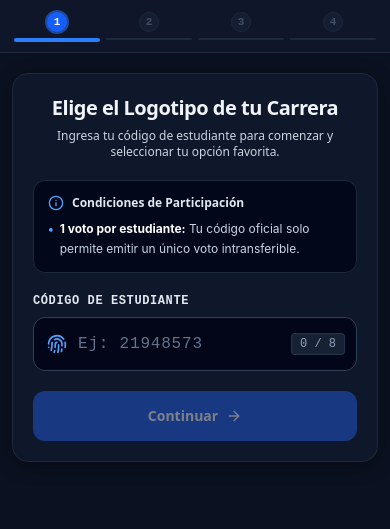
it: Identification Step — Validation & Barriers › detects non-numeric characters and displays immediate error feedback
The image size is (390, 529).
Check: the navigation bar with test id "stepper-nav" is shown, box [14,10,376,42]
Type "abc12" into the field with test id "student-code-input".
click(195, 344); type("abc12")  # box [33,317,357,371]
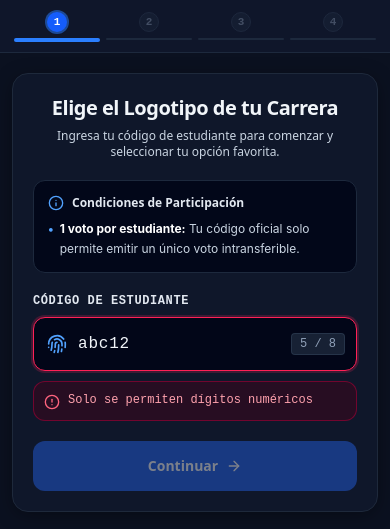
Check: the button with test id "step1-continue-btn" is disabled, box [33,441,357,491]
Check: the element with test id "student-code-error" reads "Solo se permiten dígitos numéricos", box [33,381,357,421]
Replace the text in the field with test id "student-code-input" with "21948573" at (195, 344), box [33,317,357,371]
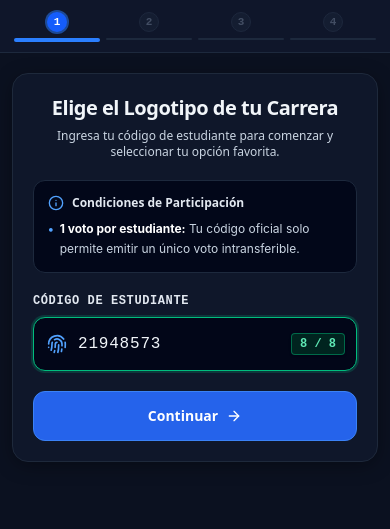
Check: the element with test id "step1-continue-btn" is enabled
Check: the element with test id "student-code-error" is gone
